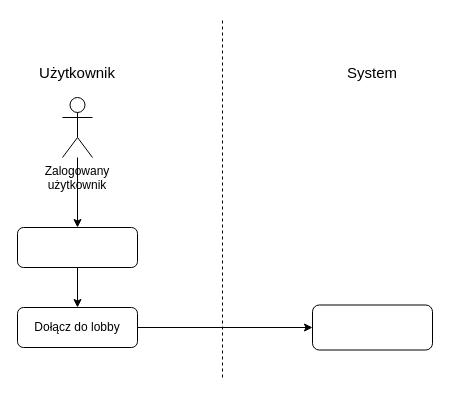
Some shapes in this 450 by 396 pixel diagram are drawn without their labels. Each missing label, with the centre of its shape:
"Przekieruj do lobby" goes at (x=372, y=327).
"Wpisz identyfikator" goes at (x=77, y=247).
